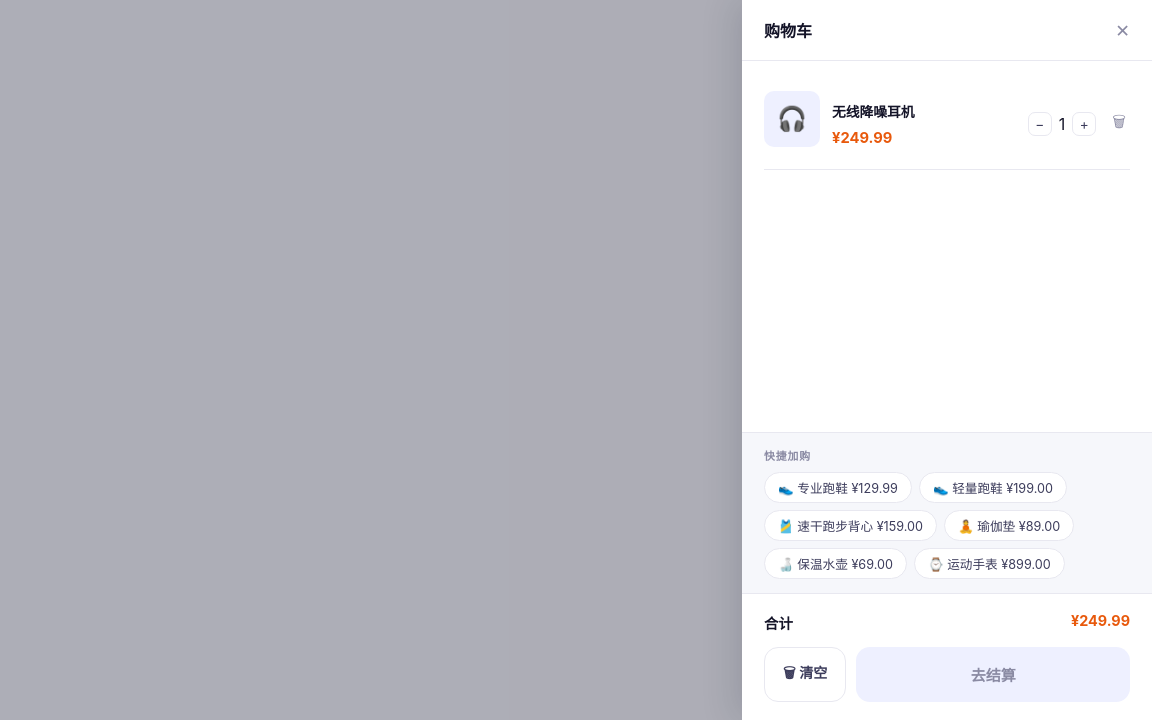
Test case: 写入（R10-3） › 数量为 1 时点 `−` 走移除（不发 `quantity: 0` 的 PUT）
The image size is (1152, 720).
Check: the text "无线降噪耳机" is shown, box top-left (832, 104), bottom-right (914, 120)
Click the button named "减少 无线降噪耳机 数量": [1040, 124] box top-left (1028, 112), bottom-right (1052, 136)
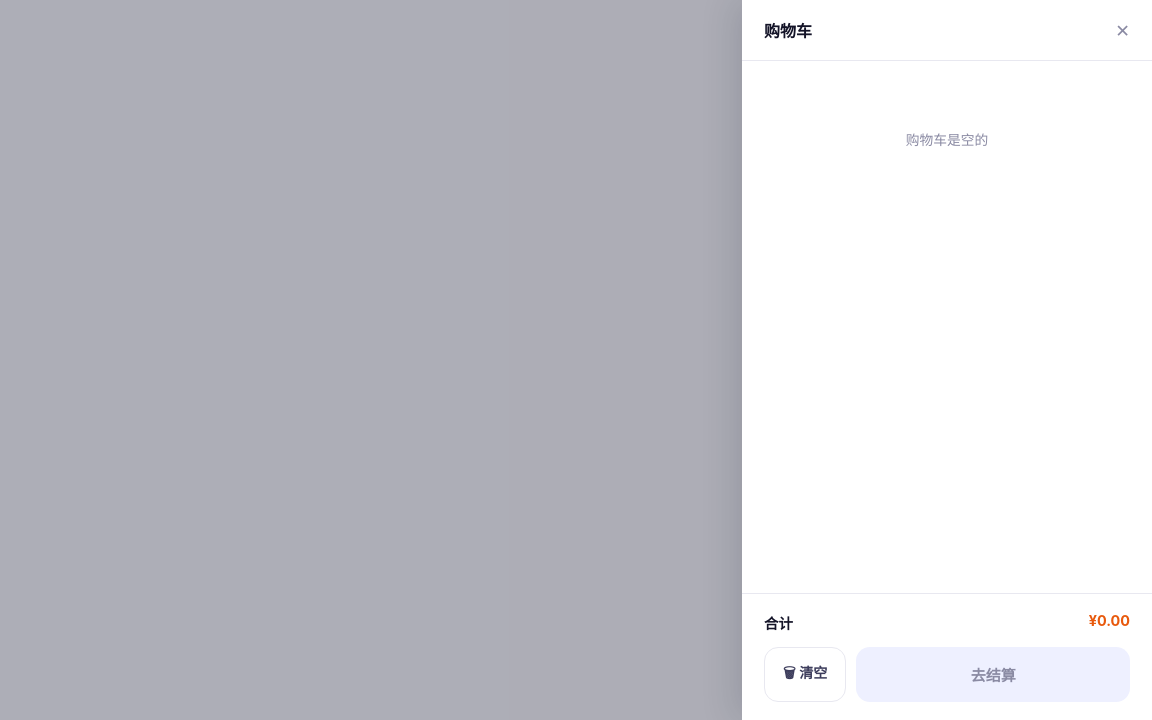
Check: the text "购物车是空的" is shown, box top-left (906, 132), bottom-right (988, 148)
